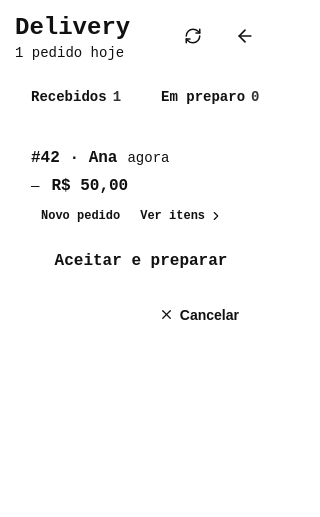
Scenario: DeliveryModulo, itens do pedido › fechar e abrir de novo tenta buscar outra vez
What coordinates should you click on to do the following:
click the button "#42 · Ana agora — R$ 50,00 Novo pedido Ver itens"
I would click on:
 (141, 188)
Its box is [31, 149, 251, 227].
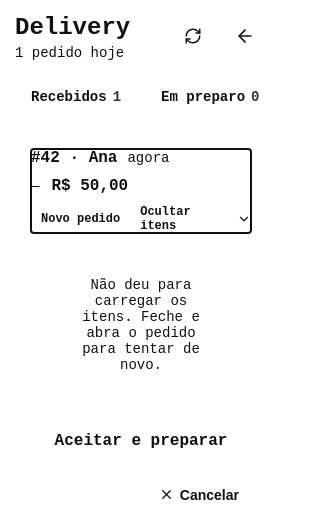
Expected: the message "Não deu para carregar os itens. Feche e abra o pedido para tentar de novo." is shown, [82, 277, 200, 373]
What coordinates should you click on to do the following:
click the button "#42 · Ana agora — R$ 50,00 Novo pedido Ocultar itens"
I would click on:
 (141, 191)
Its box is [31, 149, 251, 233].
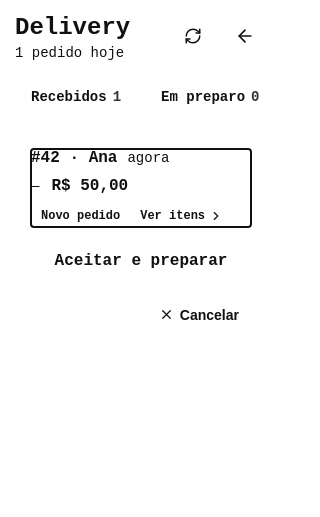
What coordinates should you click on to do the following:
click the button "#42 · Ana agora — R$ 50,00 Novo pedido Ver itens"
I would click on:
 (141, 188)
Its box is [31, 149, 251, 227].
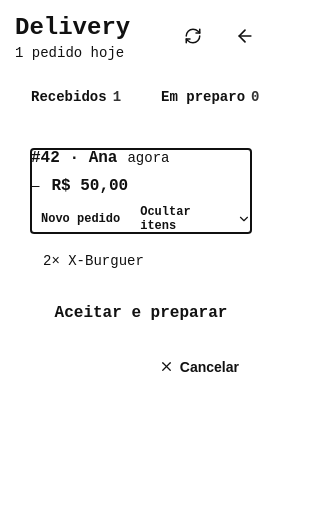
Expected: the text "2× X-Burguer" is shown, [43, 253, 144, 269]
